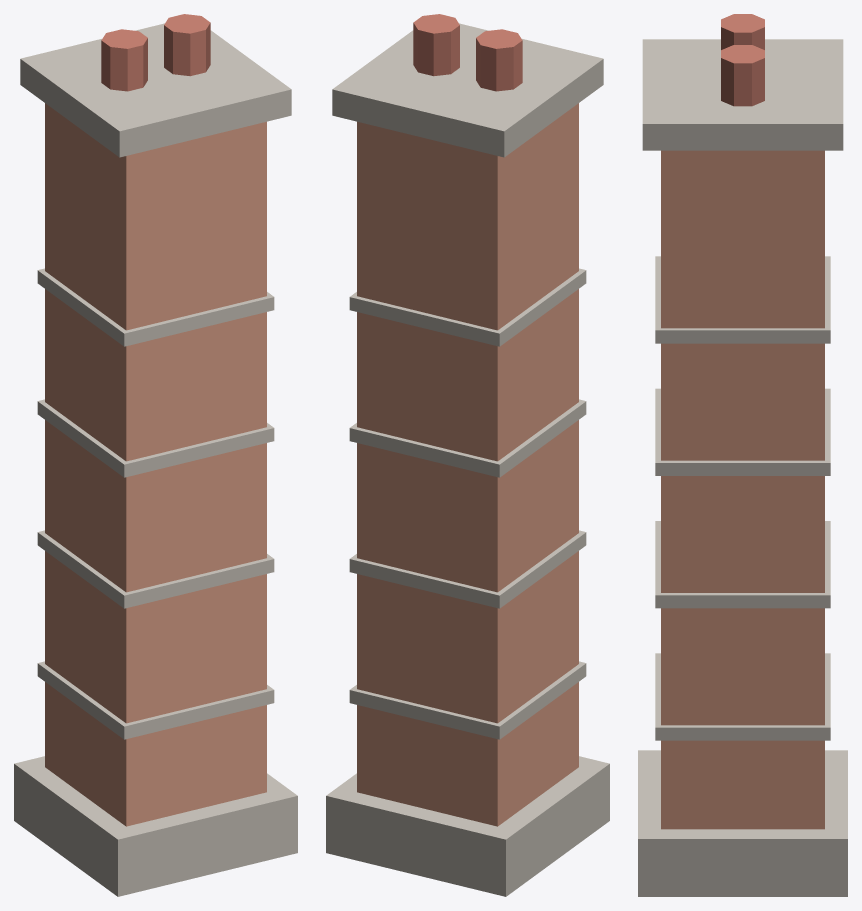
Rendered from chimney_4_5.glb.
3 views of the same model, side by side, from view 1: azimuth 30°, elevation 25°; view 2: azimuth 150°, elevation 25°; view 3: azimuth 270°, elevation 25° (orthographic).
Parts seen in each view (by area): view 1: Player; view 2: Player; view 3: Player.
Part boxes in pixels (bbox=[...]): Player: bbox=[14, 14, 297, 896]; Player: bbox=[326, 14, 609, 896]; Player: bbox=[638, 14, 847, 896].
Size of the model in its own units: 1.15 by 4.92 by 1.15.
